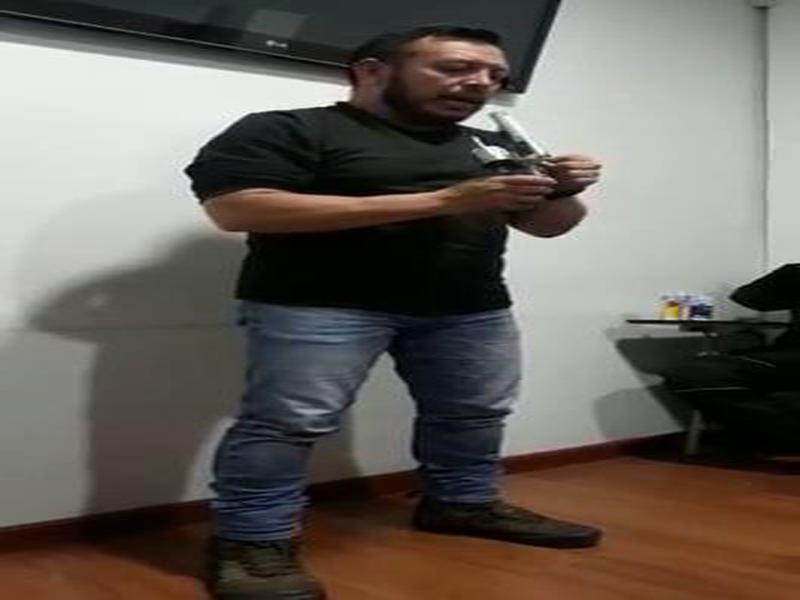Revolver: (467, 102, 571, 226)
